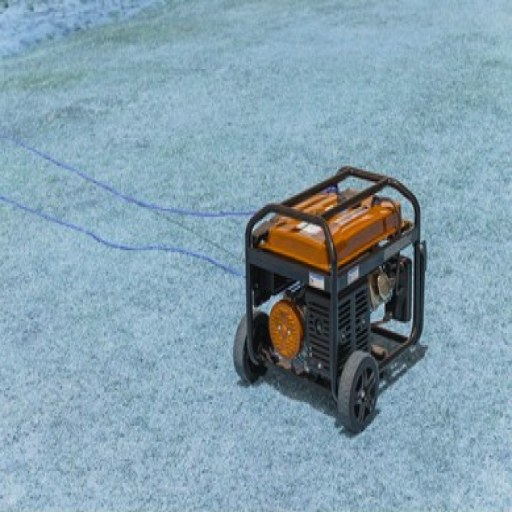portable_generator: (245, 167, 428, 394)
